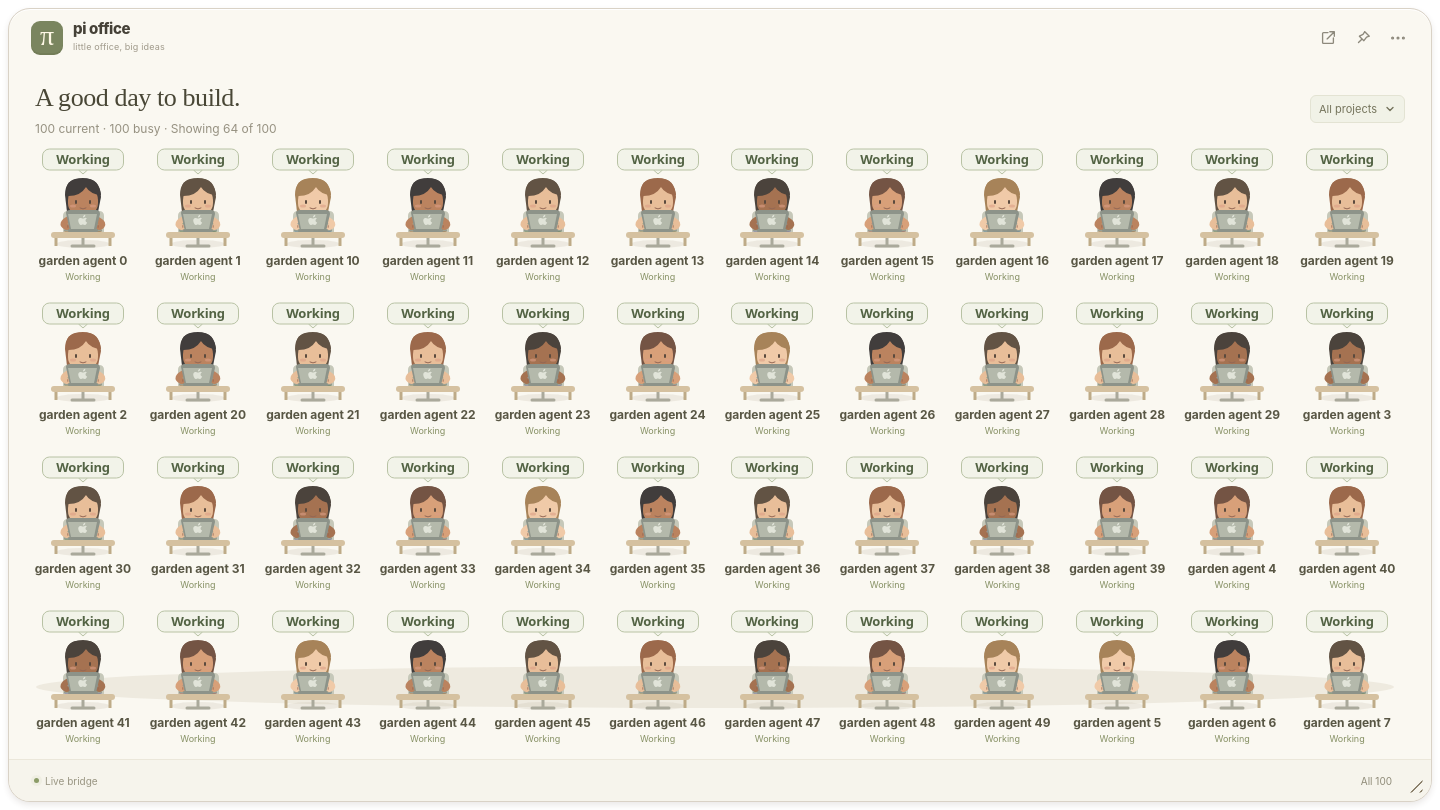
Test case: responsive companion layout contracts › bounds expensive artwork at 64, explains the limit, and lets the complete large roster open details
expect the text "100 current · 100 busy · Showing 64 of 100" is shown: met, box [35, 121, 277, 136]
Click the button with aria-label "View all 100 current agents" at [1376, 780], box [1358, 767, 1395, 794]
(page scrolled)
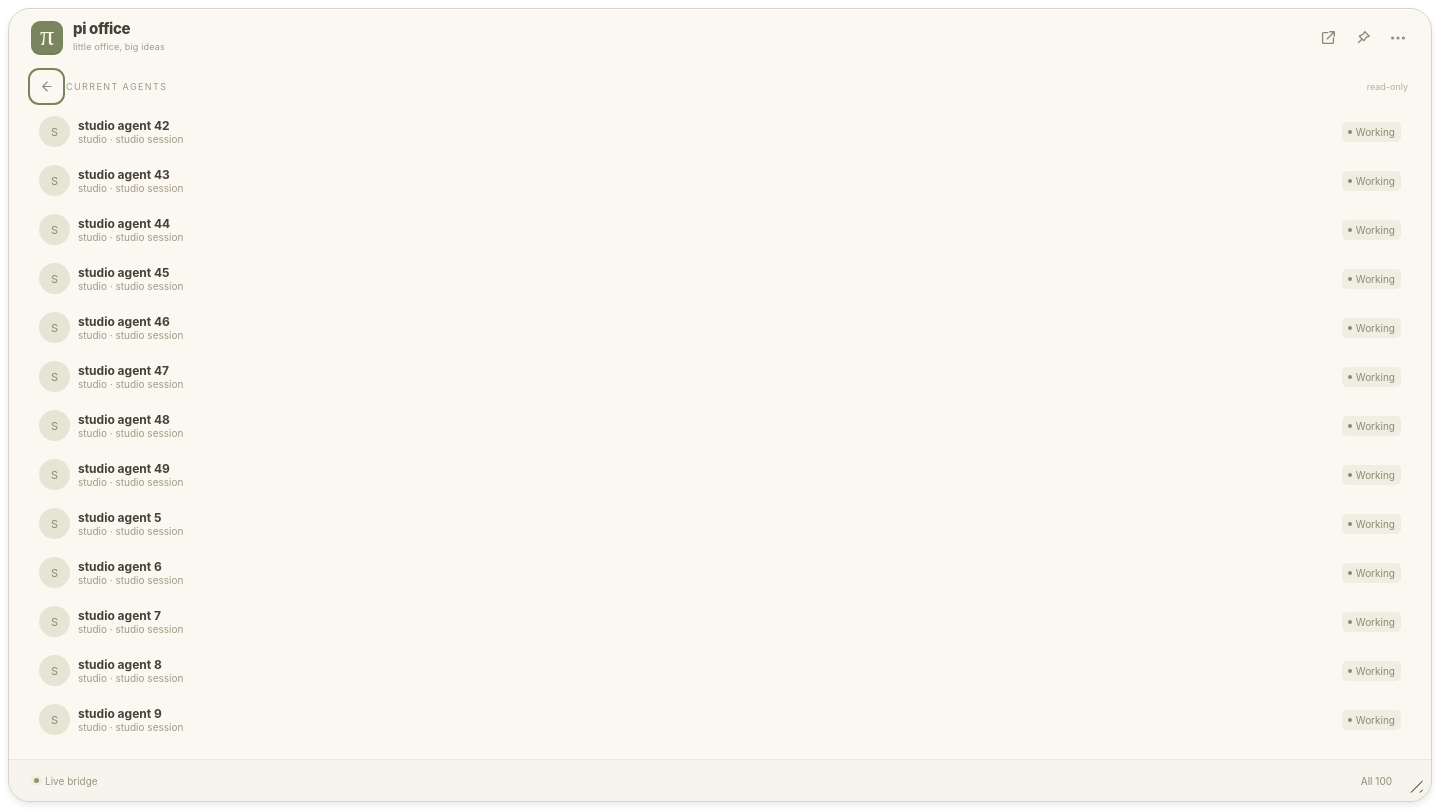
expect no icons with class "resident-art" are shown: met
Click the button "S studio agent 49 studio · studio session Working" at [54, 474], box [32, 450, 1408, 499]
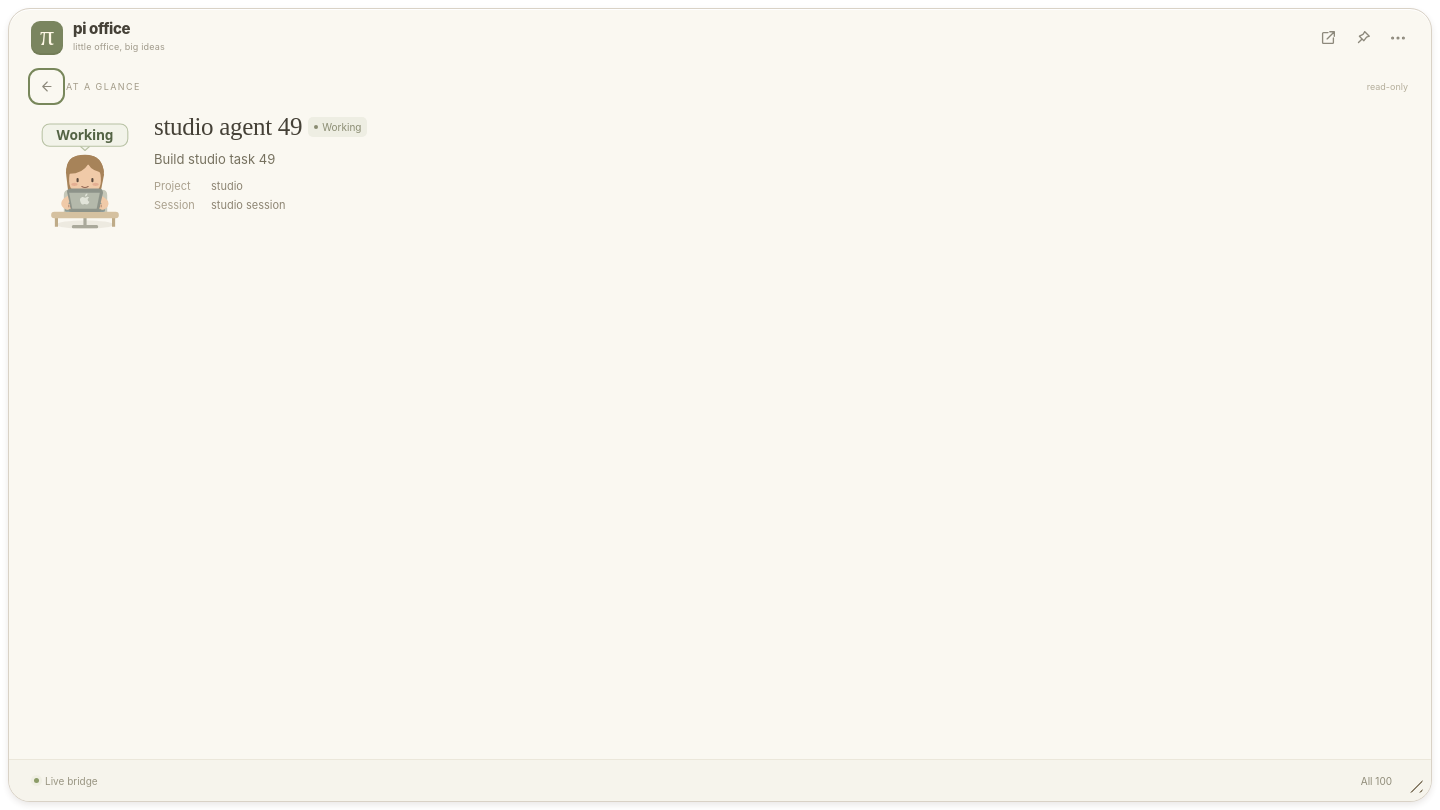
expect the text "Build studio task 49" is shown: met, box [154, 151, 275, 167]
